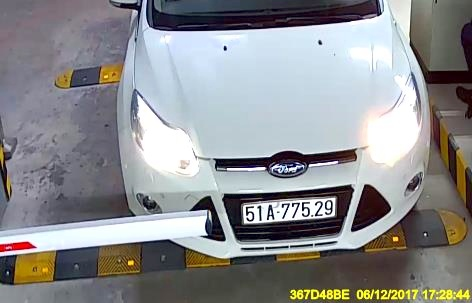plate: (242, 194, 338, 224)
